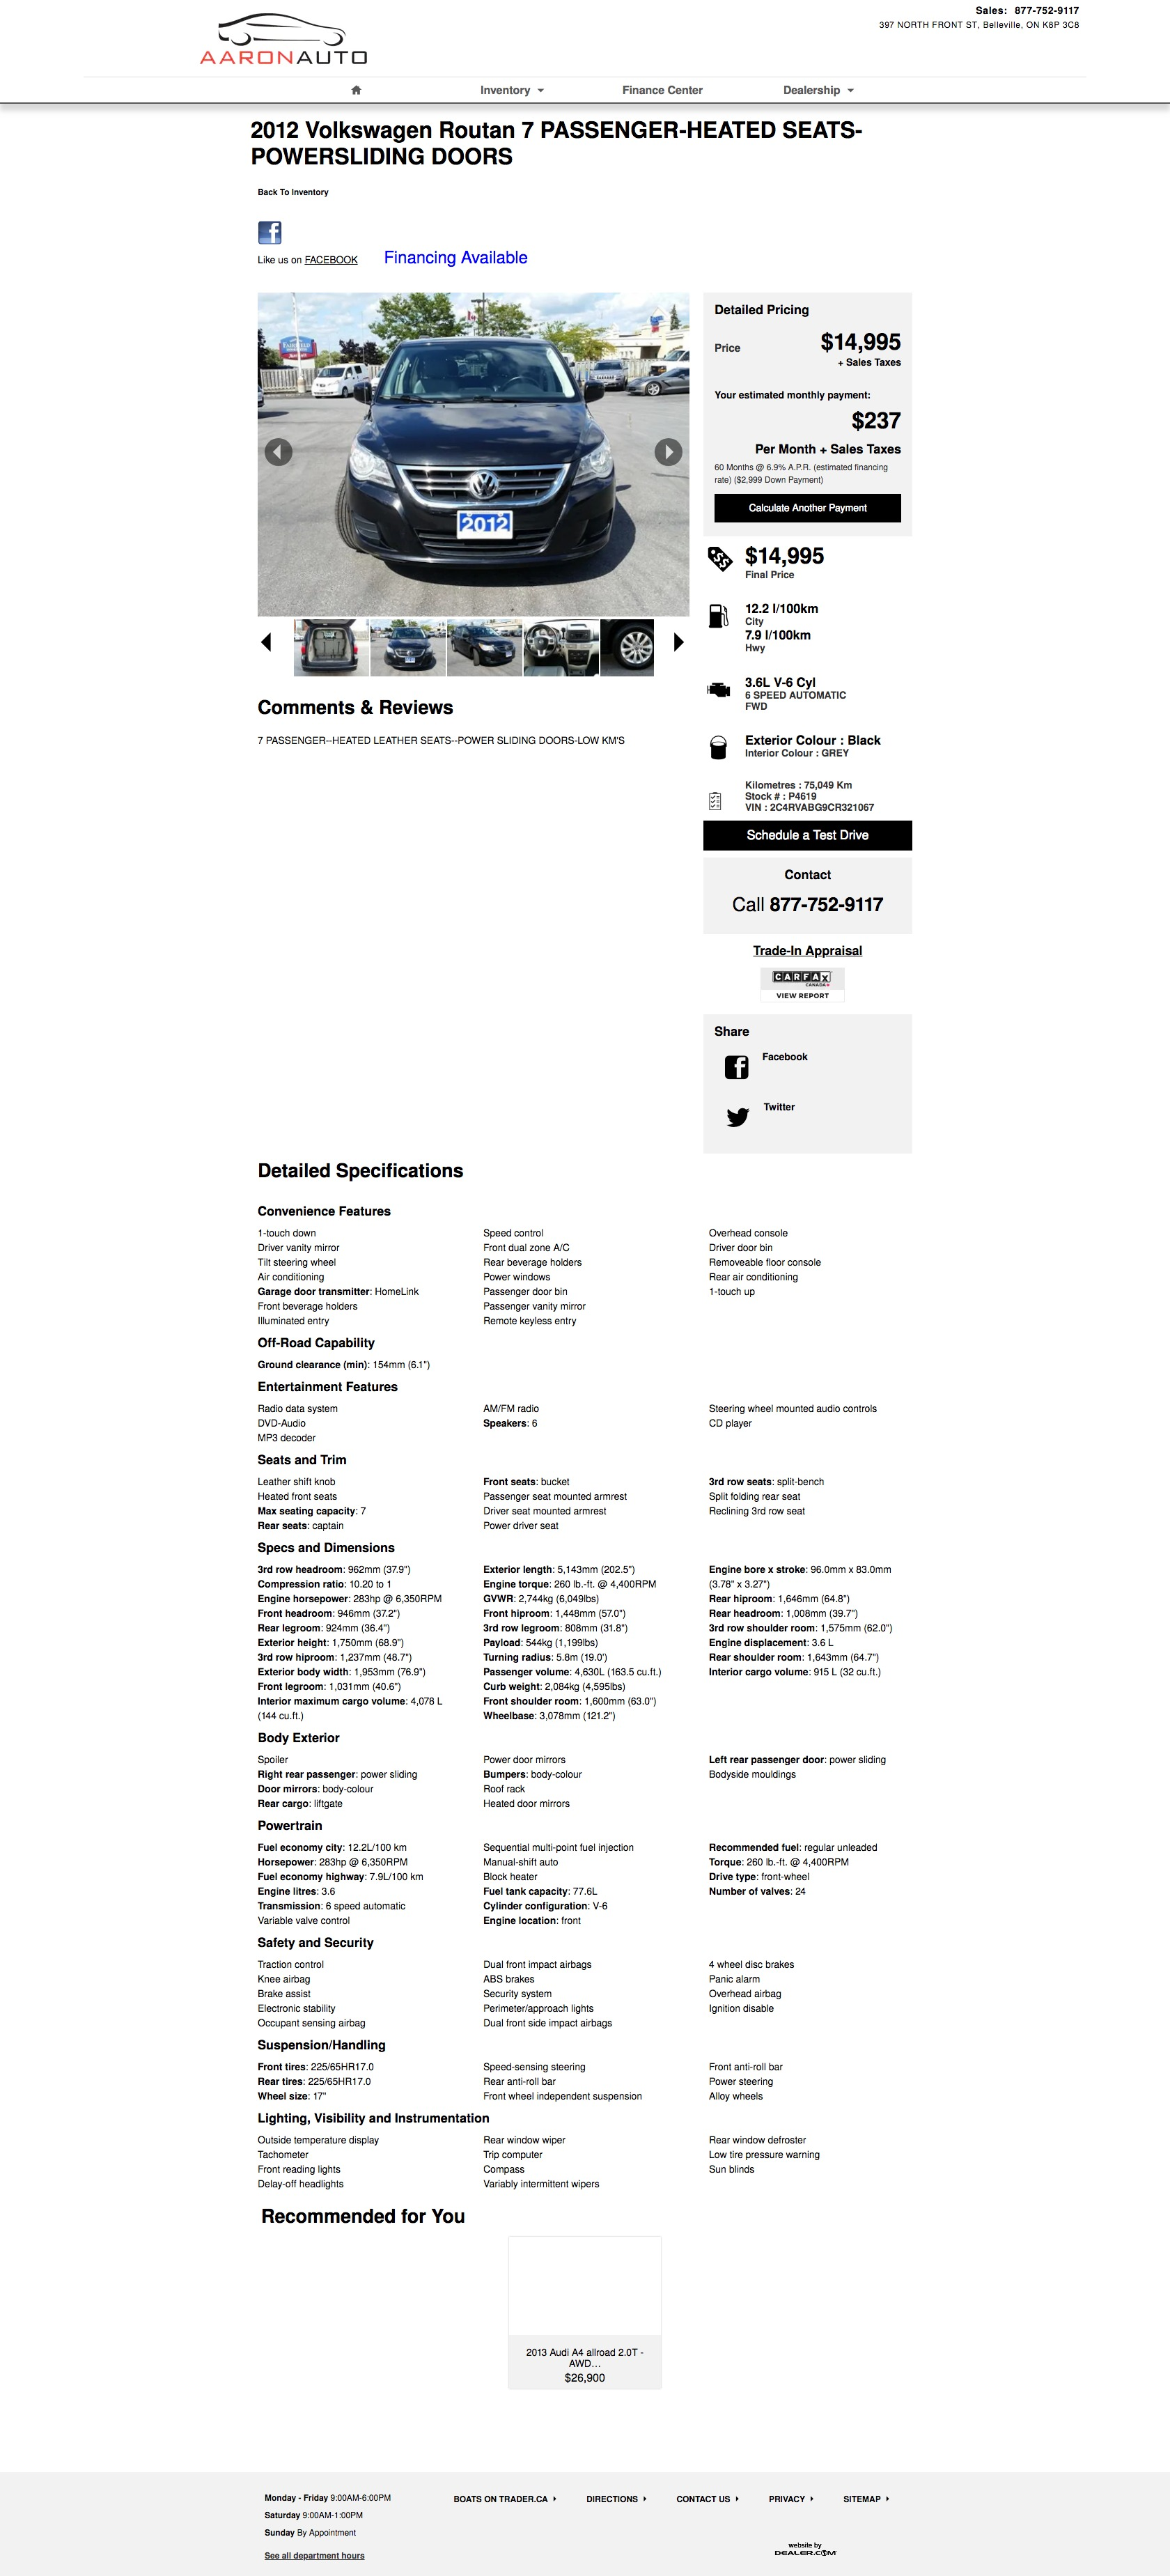car: (672, 633, 685, 654)
